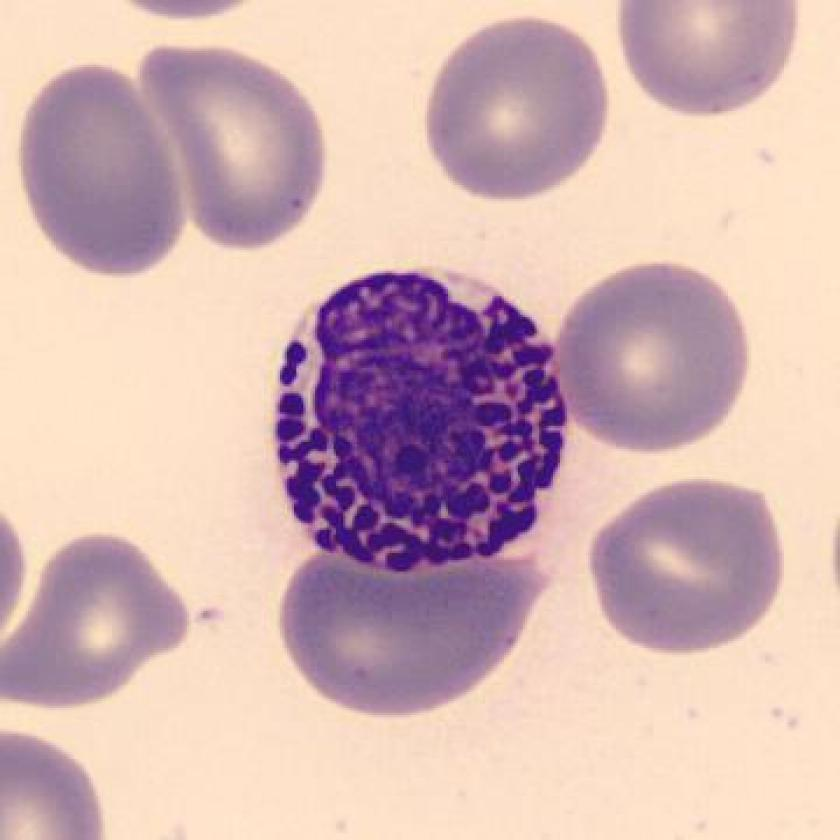basophil: (267, 260, 575, 582)
